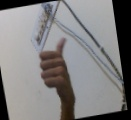hand: (39, 36, 77, 103)
